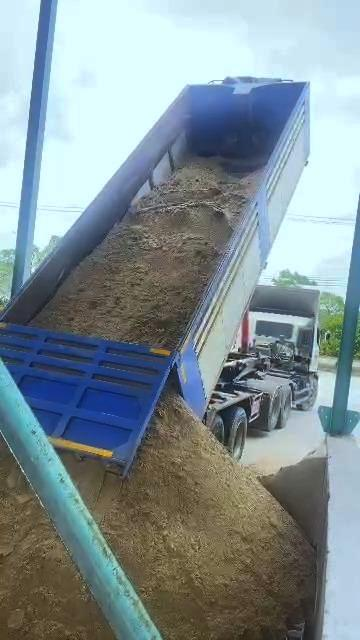sand: (64, 391, 314, 639), (32, 160, 260, 346), (0, 449, 112, 639), (263, 444, 327, 548)
